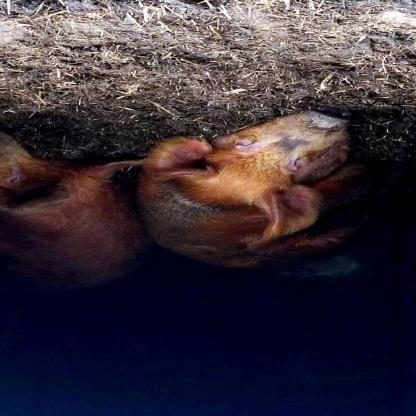boar: (132, 106, 373, 268), (0, 131, 147, 294)
